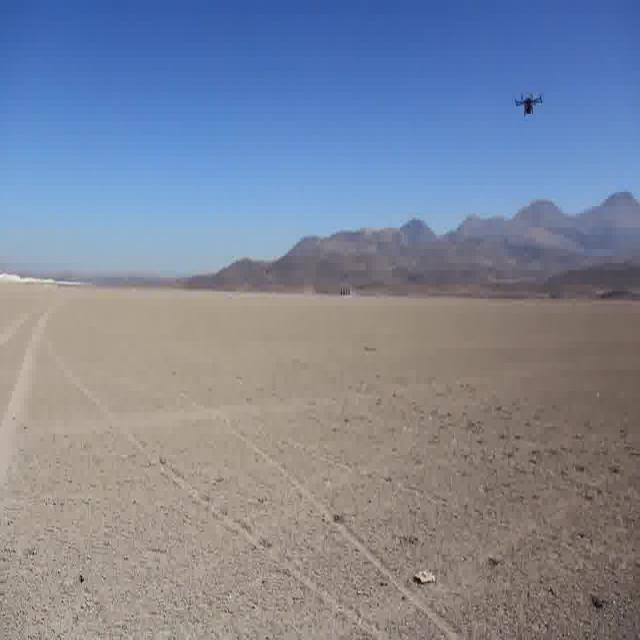drones: (508, 78, 548, 130)
